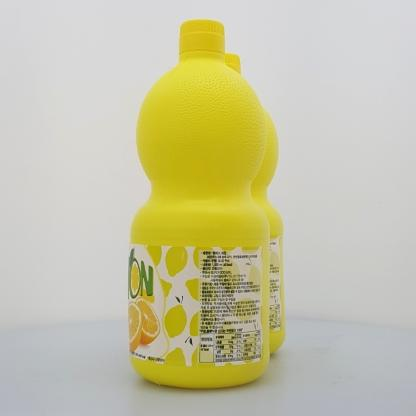-------: (128, 19, 270, 389)
